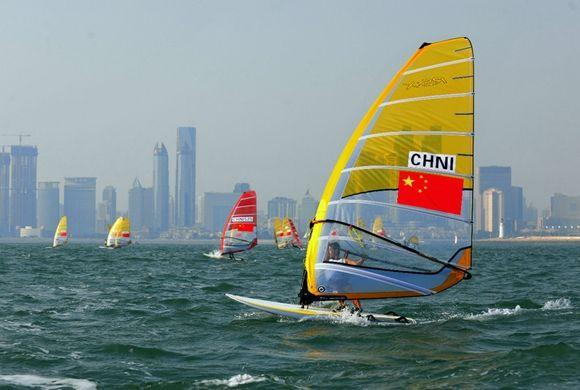fanchuan: (226, 27, 483, 329), (205, 189, 261, 263), (98, 215, 135, 254), (43, 216, 71, 252)
